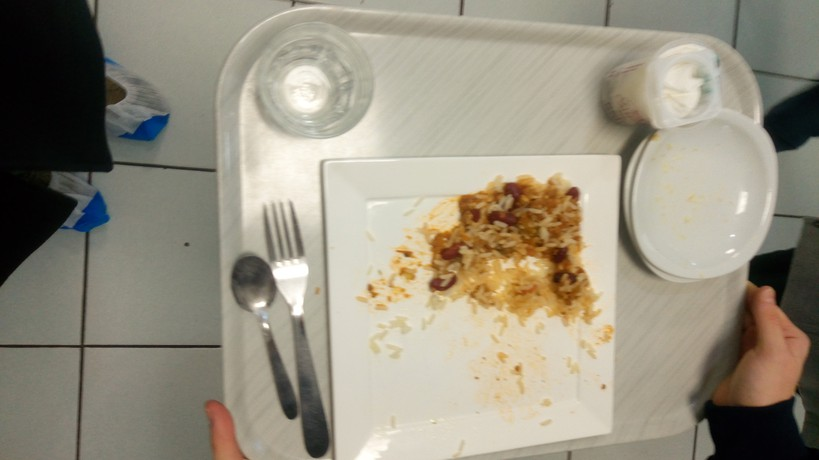cup: (255, 20, 372, 141)
cutlery: (225, 191, 317, 460)
orga: (422, 189, 601, 327)
trash: (611, 52, 718, 135)
